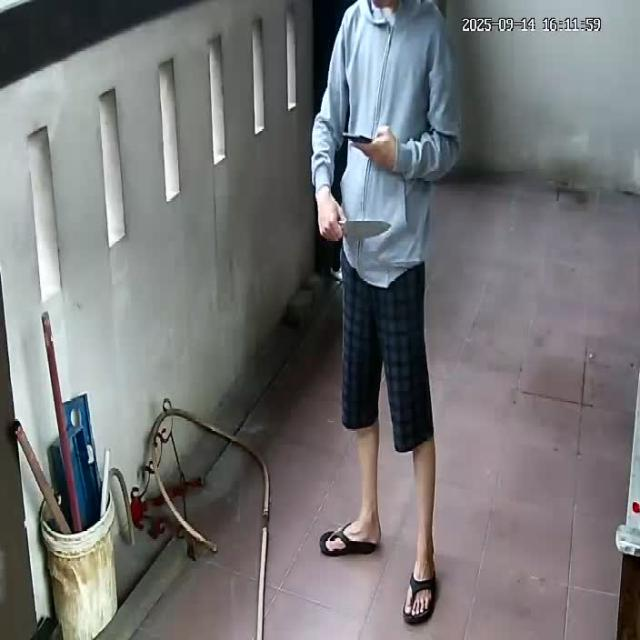senjata_tajam: (342, 216, 394, 244)
